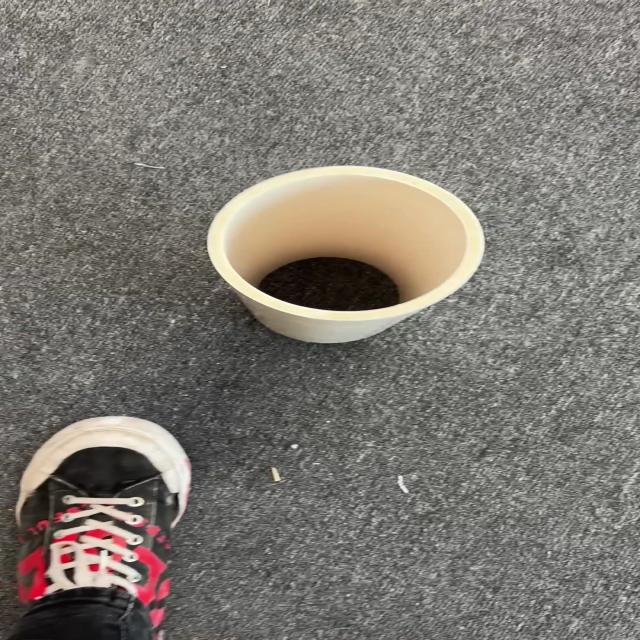Coral: (204, 164, 486, 344)
